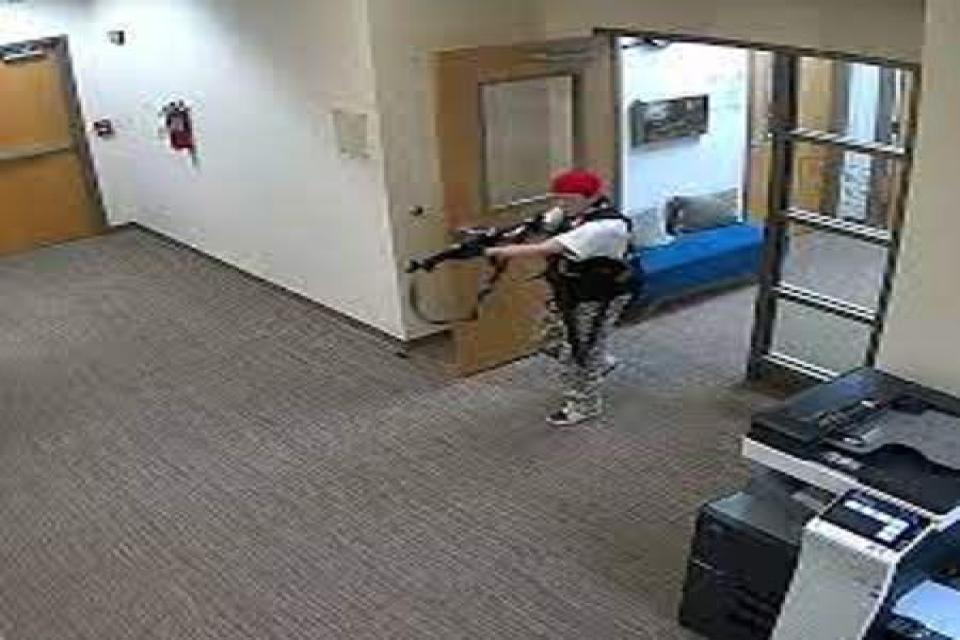non-violence: (392, 166, 655, 434)
weapon: (400, 209, 582, 292)
